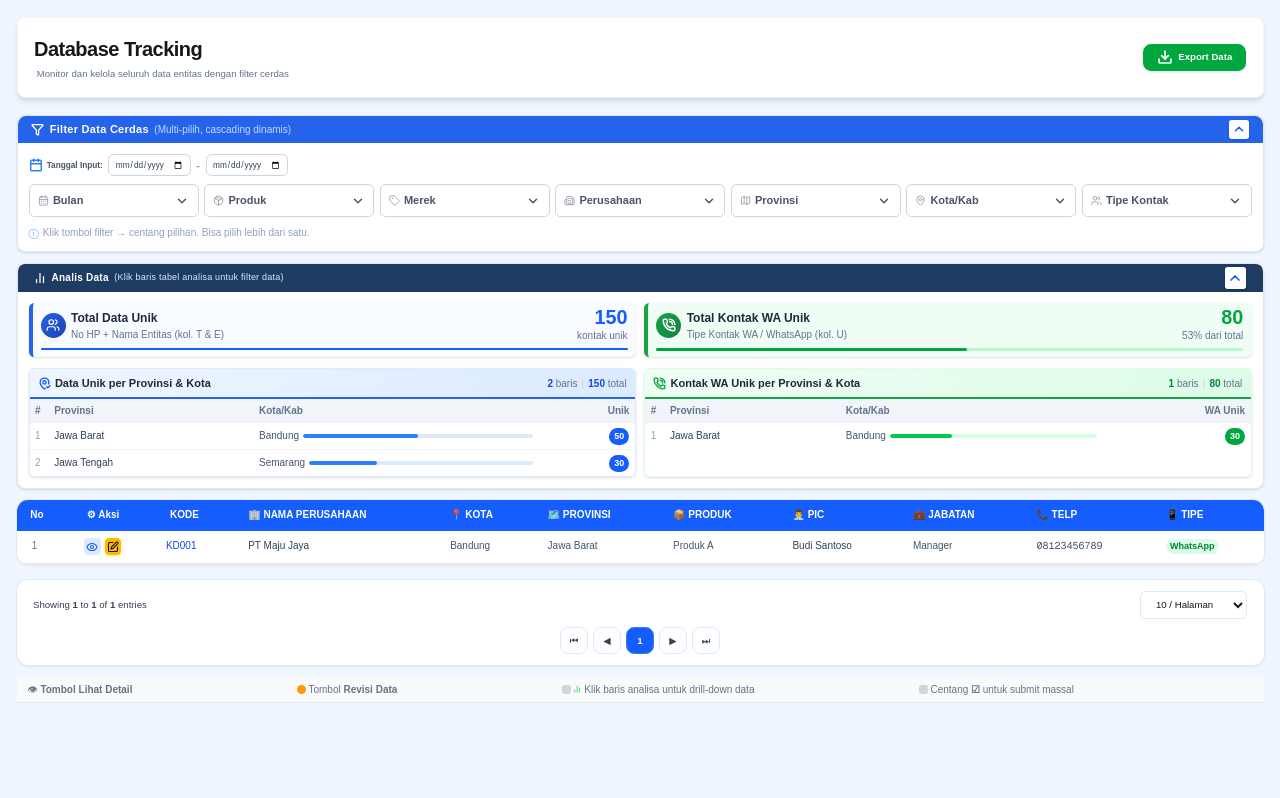
Test: TrackingDatabasePage — Detail Row › menyembunyikan panel detail saat tombol Lihat Detail diklik ulang
Expected: the text "PT Maju Jaya" is shown, [248,540,309,552]
Click the button titled "Lihat Detail" at (92, 547), box [84,538,101,555]
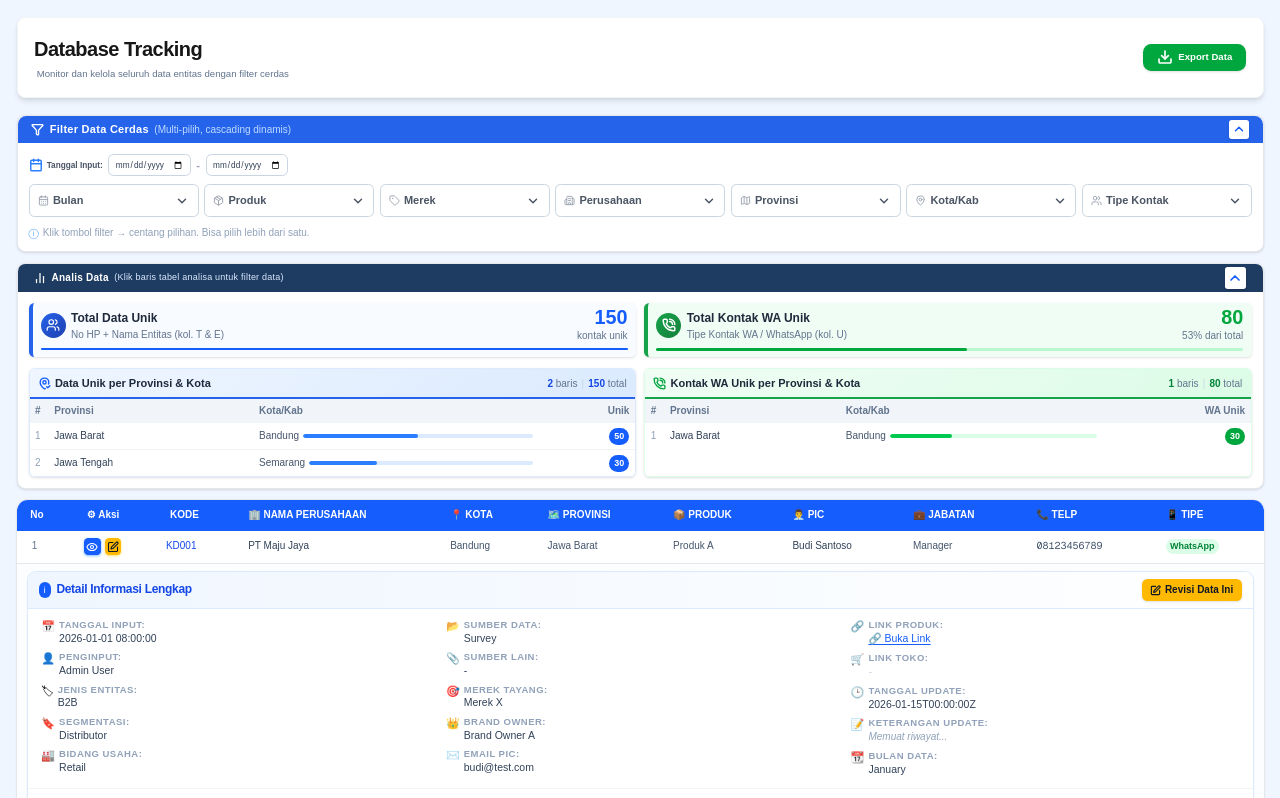
Click the button titled "Lihat Detail" at (92, 547), box [84,538,101,555]
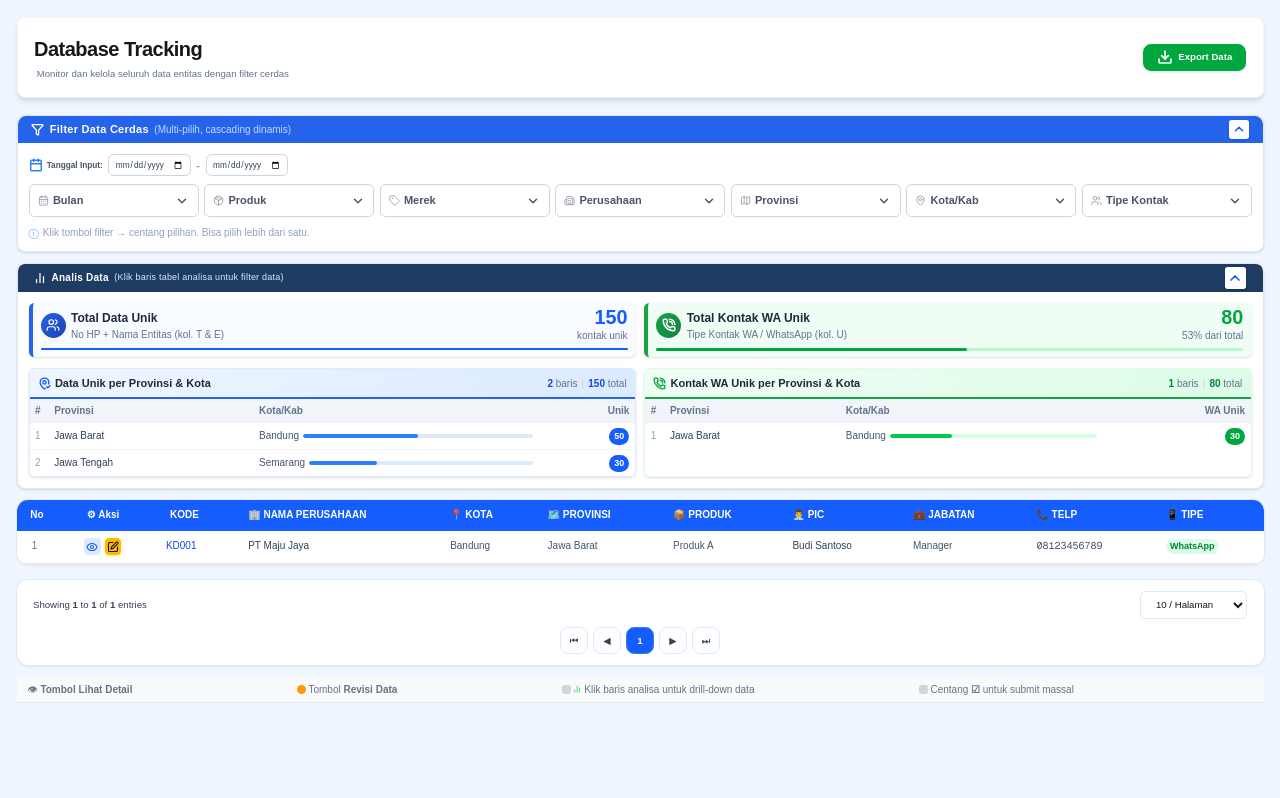
Now the text "Detail Informasi Lengkap" is gone
